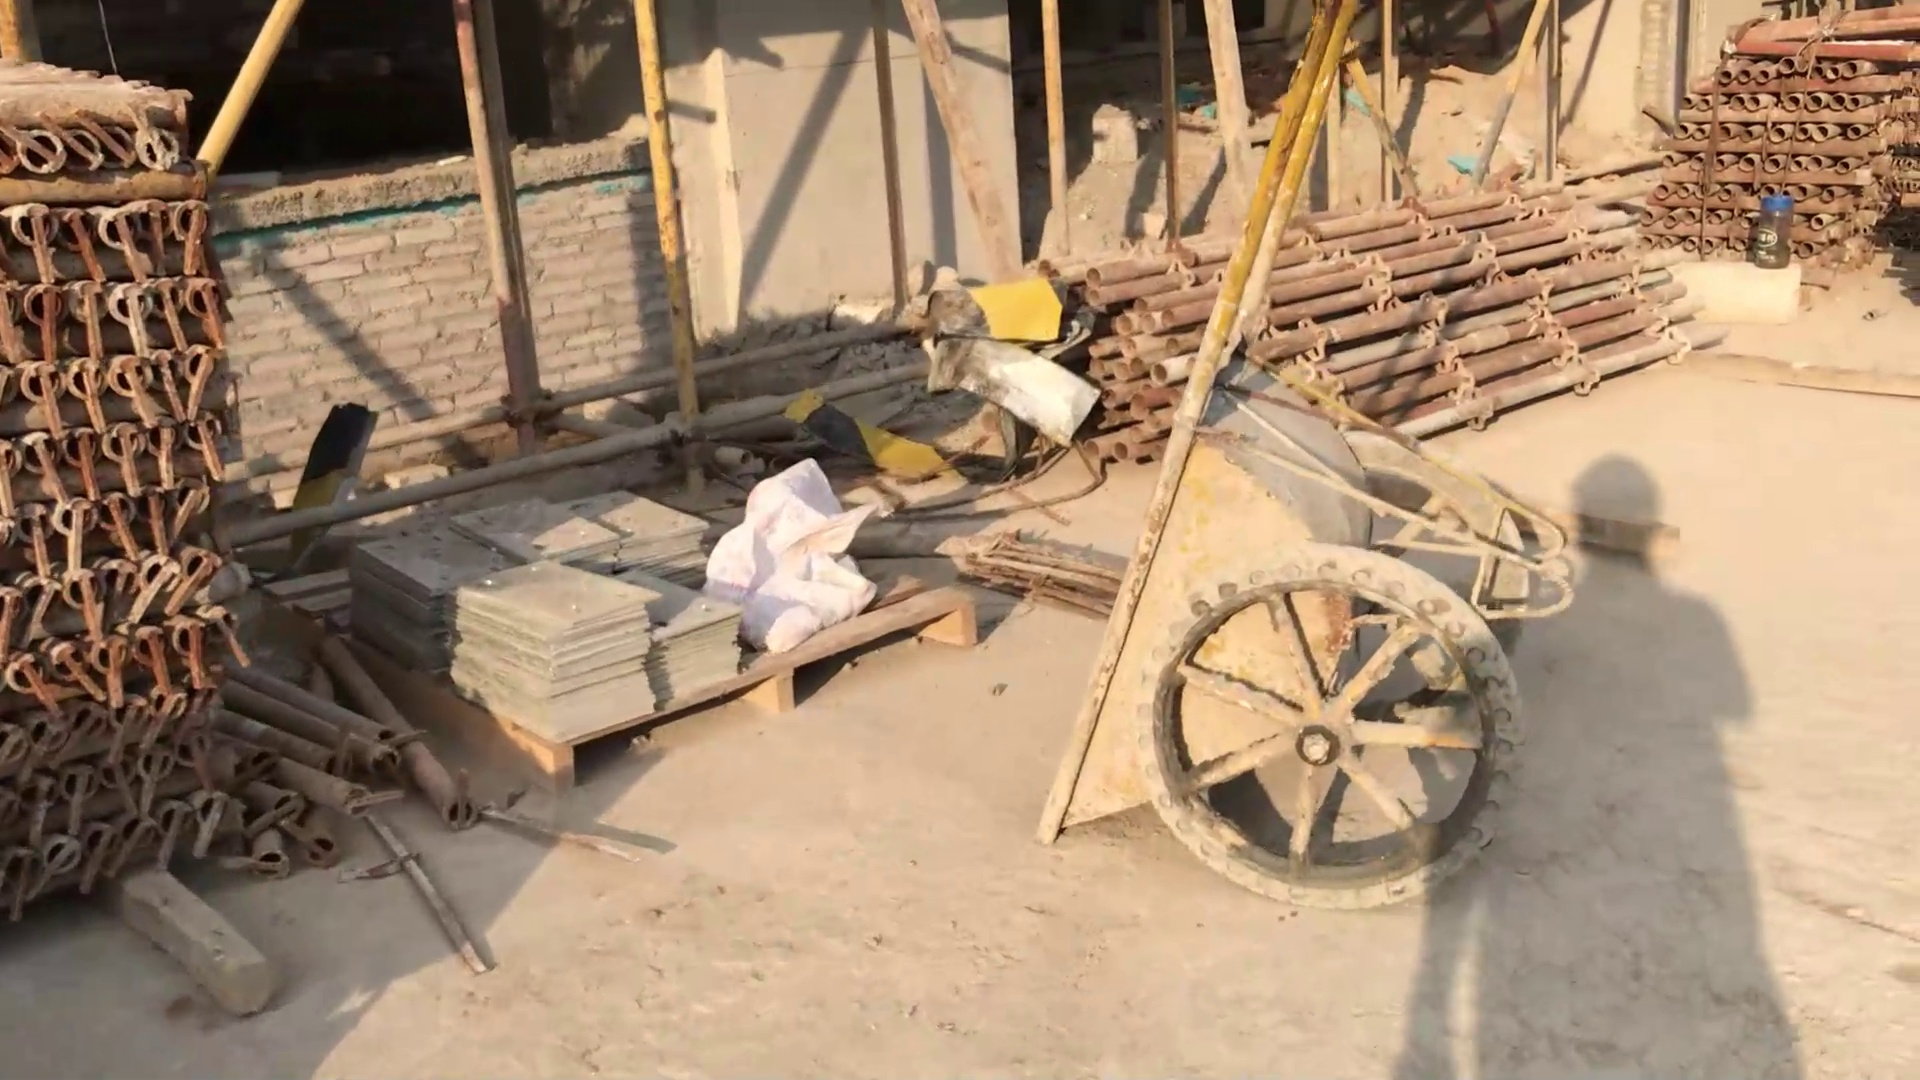handcart: (1030, 1, 1576, 916)
scaffold: (1, 61, 229, 919), (1092, 179, 1684, 465), (1648, 1, 1920, 257)
